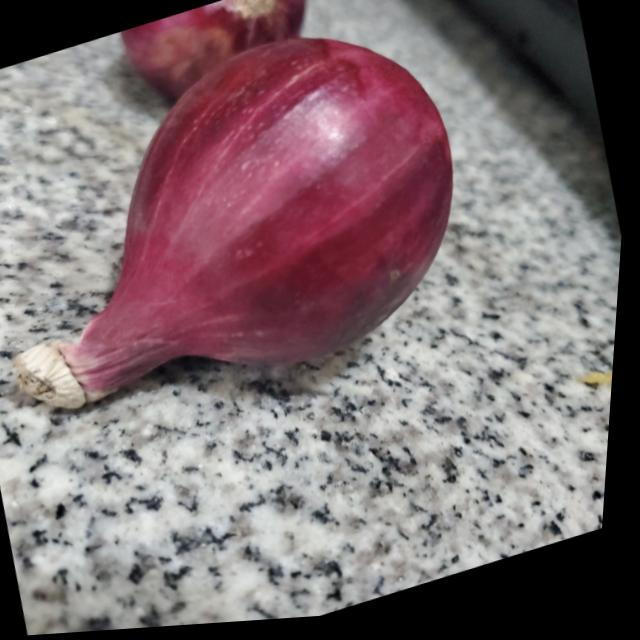onion: (0, 0, 529, 458), (114, 0, 317, 103)
